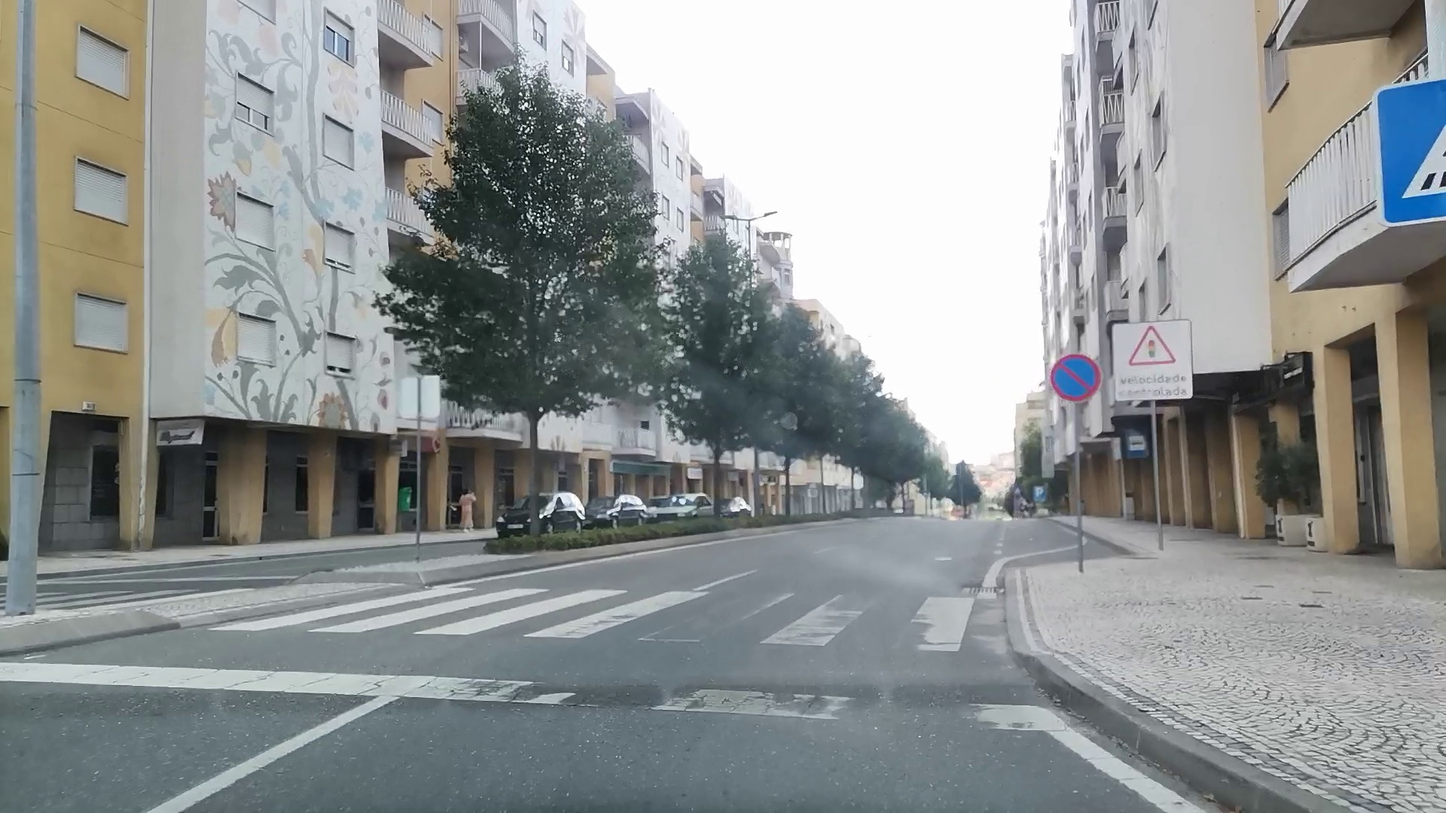Stairs: (215, 588, 995, 655)
